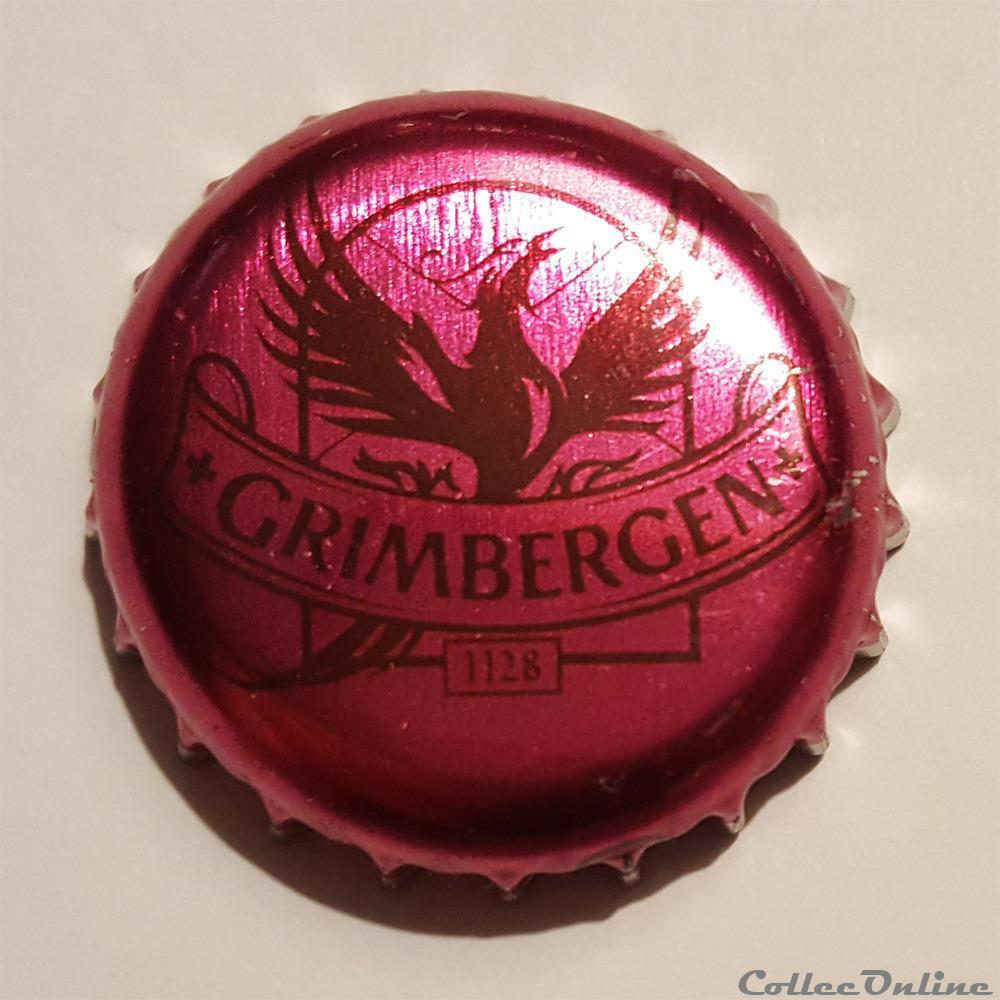metal: (87, 91, 907, 892)
